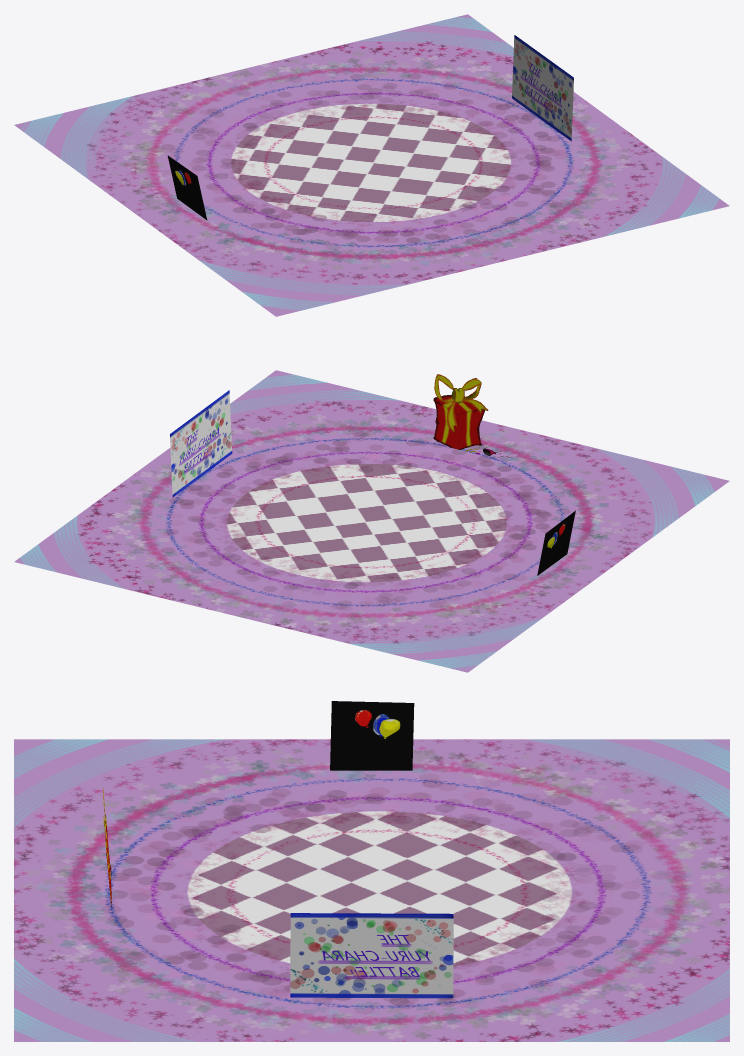
The model's file is stage02_1.fbx.
3 renders of one model, top to bottom at view 1: azimuth 30°, elevation 25°; view 2: azimuth 150°, elevation 25°; view 3: azimuth 270°, elevation 25°, orthographic. The views are drawn at different scales.
Parts seen in each view (by area): view 1: pPlane1, pPlane2, pPlane4; view 2: pPlane1, pPlane2, pPlane3, pPlane4; view 3: pPlane1, pPlane2, pPlane4.
Part boxes in pixels (<box>): pPlane1: <box>14,14,729,316</box>; pPlane2: <box>512,35,573,141</box>; pPlane4: <box>167,155,207,220</box>; pPlane1: <box>14,370,729,672</box>; pPlane2: <box>170,390,232,497</box>; pPlane3: <box>433,374,509,457</box>; pPlane4: <box>537,510,575,575</box>; pPlane1: <box>14,739,729,1041</box>; pPlane2: <box>290,913,453,998</box>; pPlane4: <box>330,701,414,770</box>.
Size of the model in its own units: 8.68 by 2.07 by 8.68.
